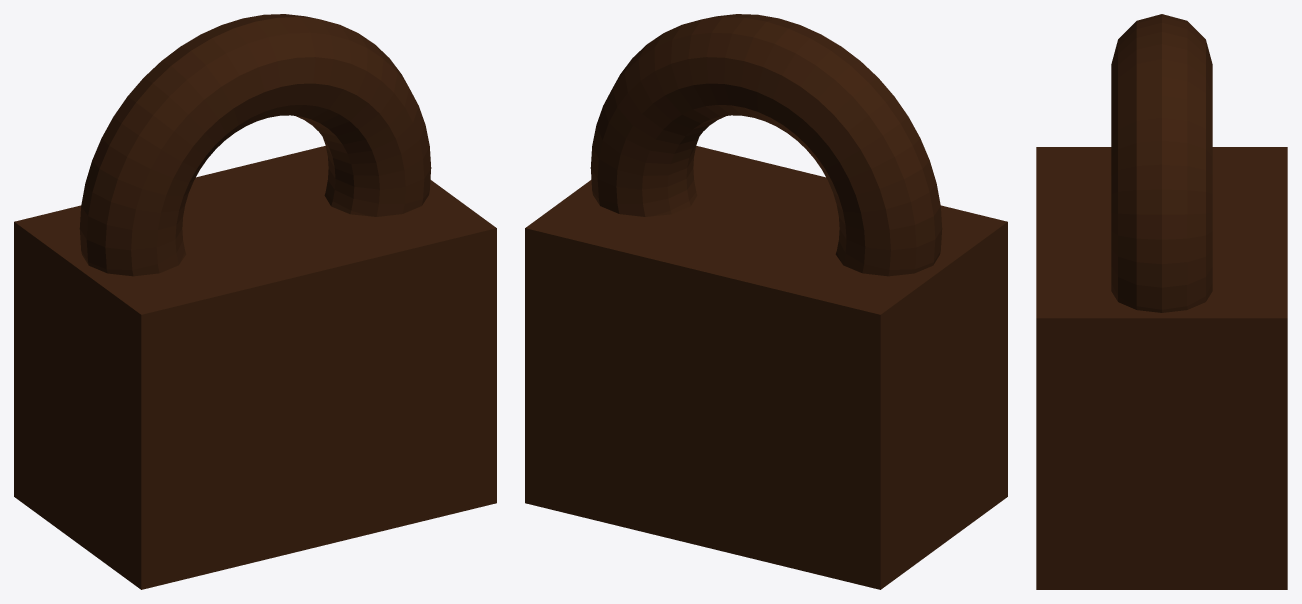
File: Cadenas.fbx
The picture shows the model from 3 angles, left to right: view 1: azimuth 30°, elevation 25°; view 2: azimuth 150°, elevation 25°; view 3: azimuth 270°, elevation 25°; orthographic projection.
Parts seen in each view (by area): view 1: Cadenas; view 2: Cadenas; view 3: Cadenas.
Part boxes in pixels (left/top/right/bottom): Cadenas: left=14, top=14, right=496, bottom=589; Cadenas: left=525, top=14, right=1007, bottom=589; Cadenas: left=1036, top=14, right=1287, bottom=589.
Size of the model in its own units: 20 by 25.72 by 12.4.
